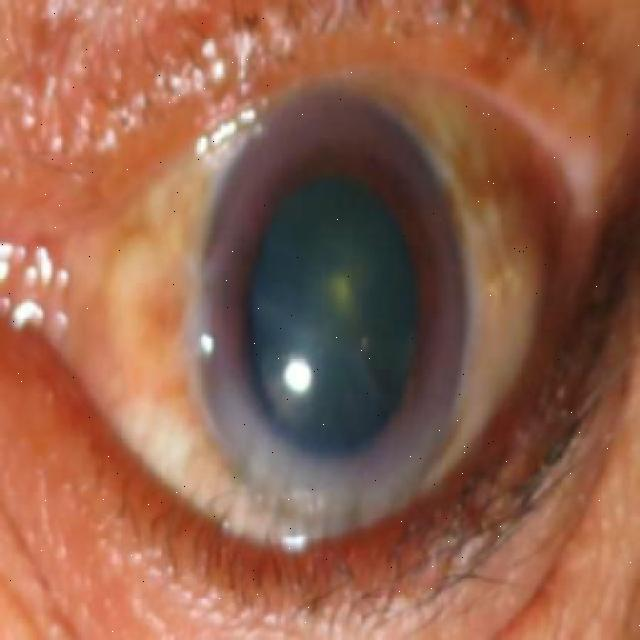Cataract: (187, 78, 468, 521)
